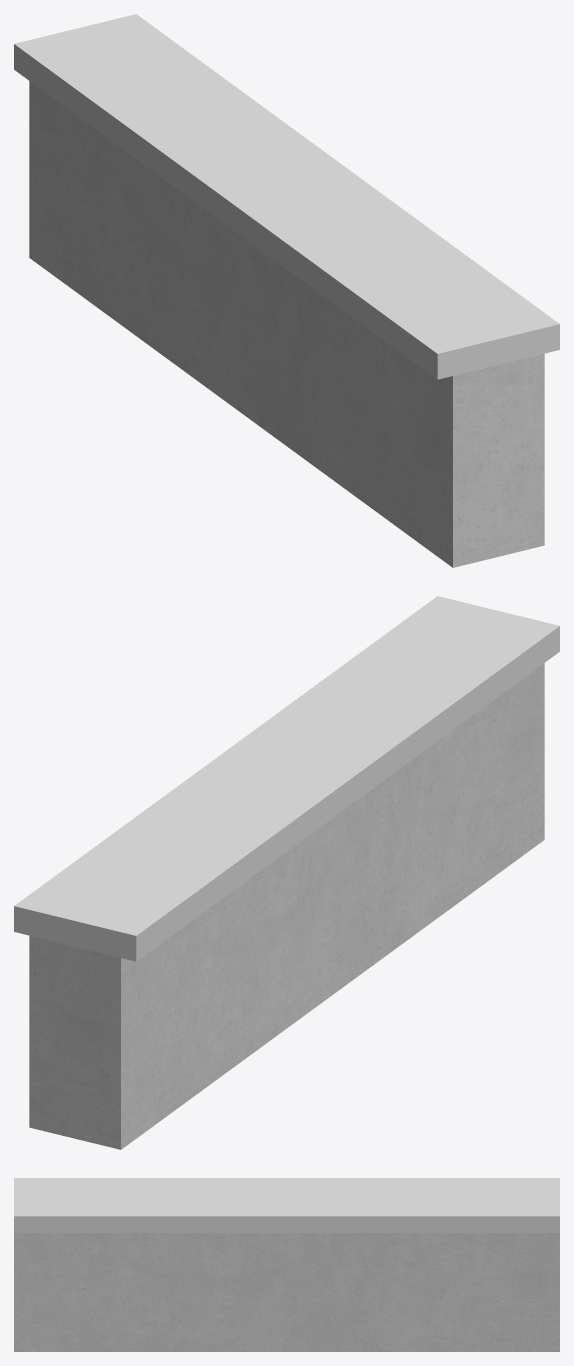
Rendered from MB_Parapet_A_4m.fbx.
3 views of the same model, one above another, from view 1: azimuth 30°, elevation 25°; view 2: azimuth 150°, elevation 25°; view 3: azimuth 270°, elevation 25° (orthographic). The views are drawn at different scales.
Visible parts, largest first — view 1: MB_Parapet_4m_A; view 2: MB_Parapet_4m_A; view 3: MB_Parapet_4m_A.
Boxes of the visible parts, bbox=[...] form: MB_Parapet_4m_A: bbox=[14, 14, 559, 567]; MB_Parapet_4m_A: bbox=[14, 596, 559, 1149]; MB_Parapet_4m_A: bbox=[14, 1178, 559, 1351].
Size of the model in its own units: 66.71 by 113 by 400.
